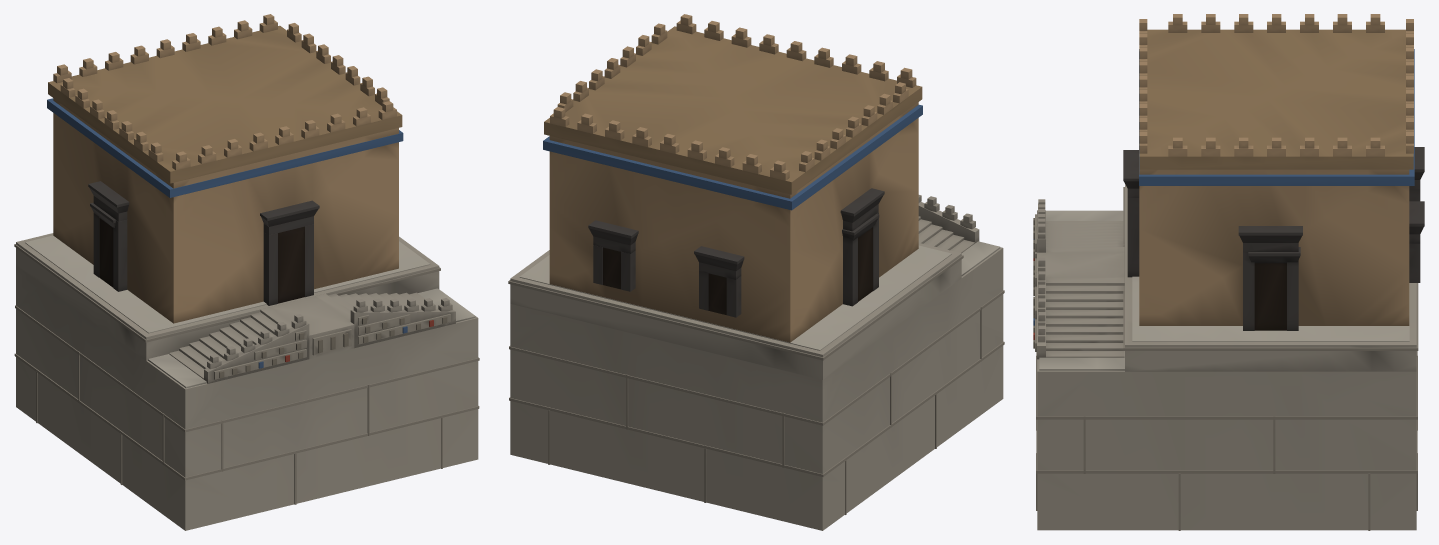
Rendered from tripylon.glb.
3 renders of one model, left to right at view 1: azimuth 30°, elevation 25°; view 2: azimuth 150°, elevation 25°; view 3: azimuth 270°, elevation 25°, orthographic. The views are drawn at different scales.
Parts seen in each view (by area): view 1: p0_platform, p1_walls, p2_roof; view 2: p0_platform, p1_walls, p2_roof; view 3: p0_platform, p2_roof, p1_walls.
Boxes of the visible parts, bbox=[...] form: p0_platform: bbox=[14, 233, 479, 530]; p1_walls: bbox=[53, 98, 398, 323]; p2_roof: bbox=[47, 14, 403, 197]; p0_platform: bbox=[508, 195, 1004, 530]; p1_walls: bbox=[549, 102, 918, 342]; p2_roof: bbox=[543, 14, 922, 210]; p0_platform: bbox=[1033, 184, 1418, 530]; p2_roof: bbox=[1139, 14, 1414, 185]; p1_walls: bbox=[1123, 147, 1424, 330].
Bounding box in the file's own units: 26.2 × 28.18 × 26.8.
